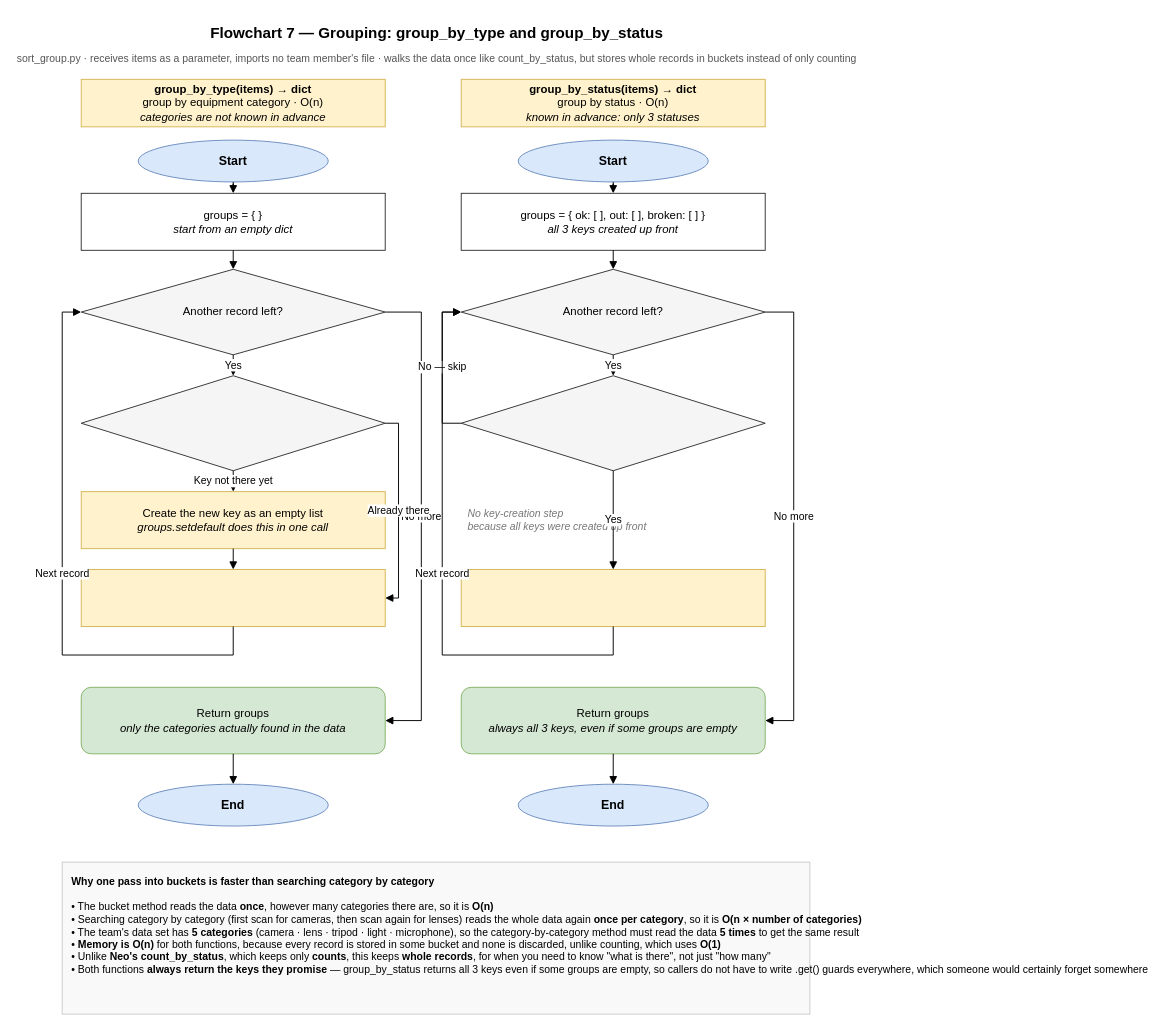
The diagram is 1166 pixels wide and 1031 high, and some of its shapes have lost their labels. Each missing label, with the box of its shape:
groups[category].append(item): (80, 569, 385, 627)
groups[status].append(item): (460, 569, 765, 627)
Is status one of the 3 known keys? unknown values skipped, no crash: (460, 375, 765, 471)
Is this category already a key in groups? 5 real categories in datasets.py: (80, 375, 385, 471)
